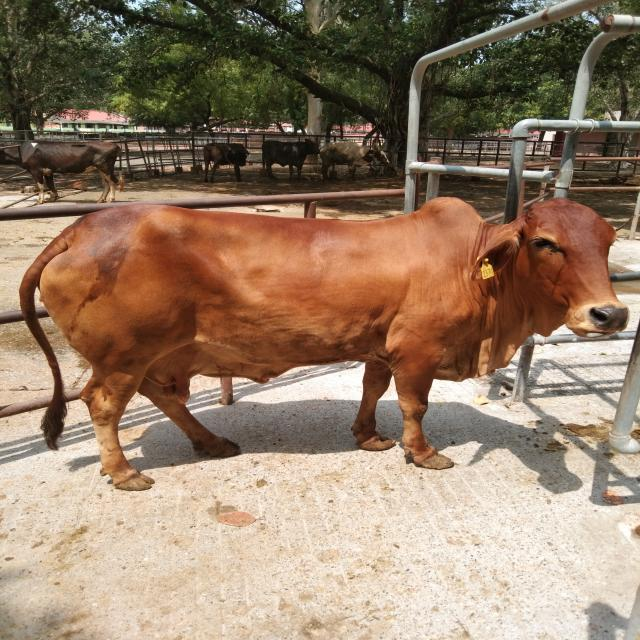1: (399, 190, 505, 218)
Hoof: (114, 473, 155, 491), (207, 437, 241, 458), (413, 452, 454, 469), (356, 436, 396, 451)
